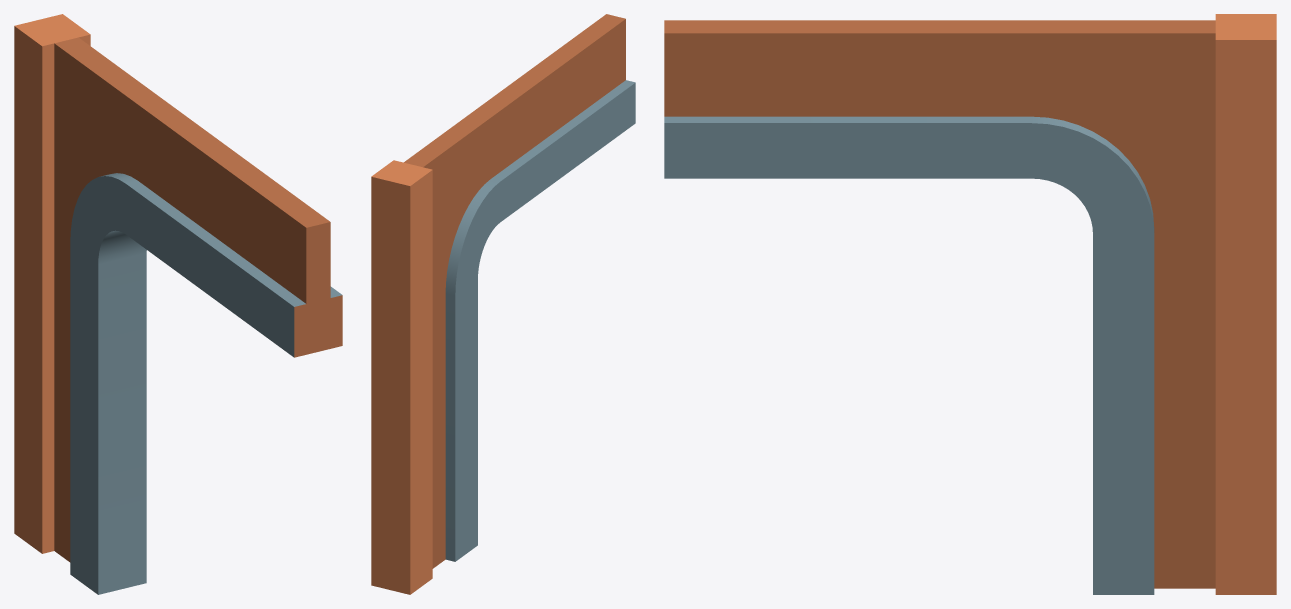
File: wallWoodDoorwaySquareWideCurved.obj
3 renders of one model, left to right at view 1: azimuth 30°, elevation 25°; view 2: azimuth 150°, elevation 25°; view 3: azimuth 270°, elevation 25°, orthographic. The views are drawn at different scales.
Parts seen in each view (by area): view 1: wallWoodDoorwaySquareWideCurved; view 2: wallWoodDoorwaySquareWideCurved; view 3: wallWoodDoorwaySquareWideCurved.
Boxes of the visible parts, bbox=[...] form: wallWoodDoorwaySquareWideCurved: bbox=[14, 14, 342, 594]; wallWoodDoorwaySquareWideCurved: bbox=[371, 14, 635, 594]; wallWoodDoorwaySquareWideCurved: bbox=[664, 14, 1276, 594].
Size of the model in its own units: 0.1 by 1 by 1.
